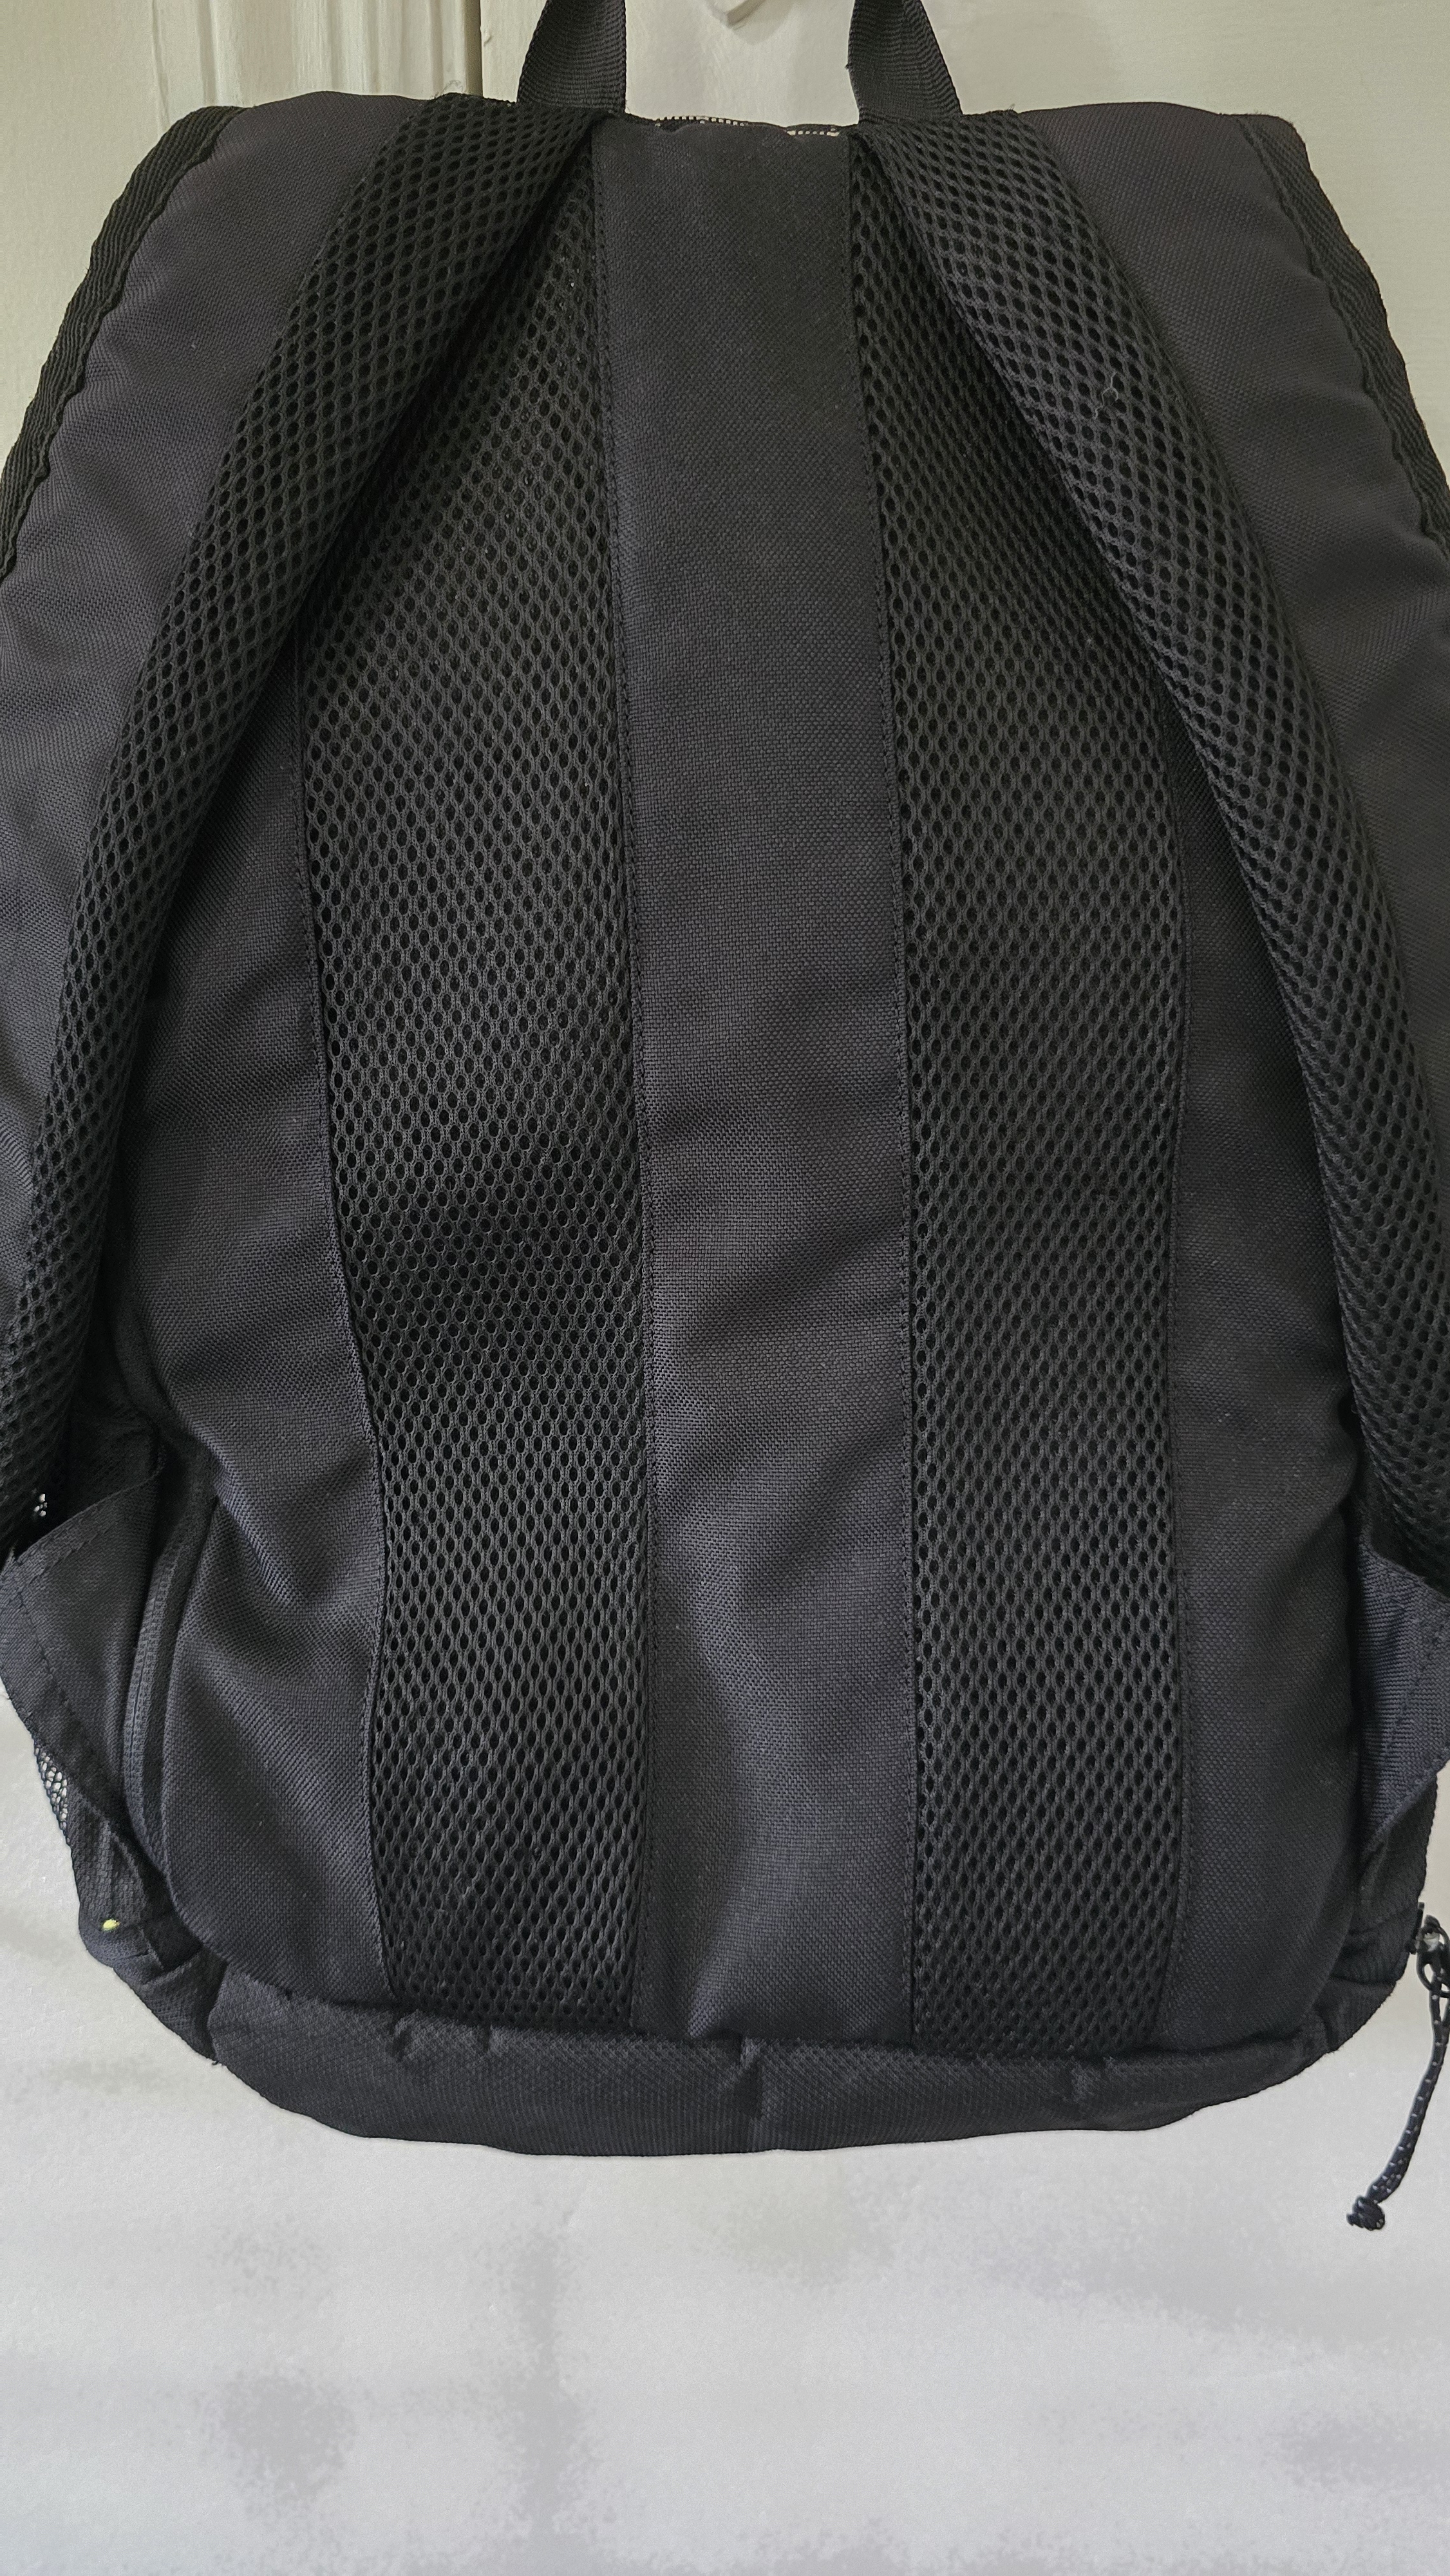bag: (1, 1, 1434, 2248)
